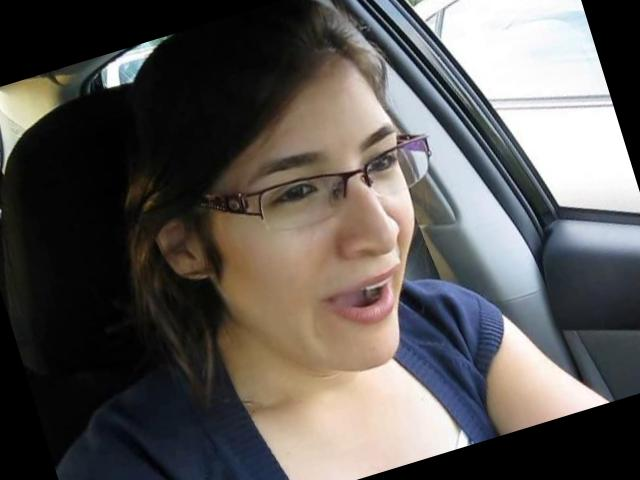eye_open: (258, 170, 329, 222), (357, 144, 404, 184)
face: (186, 90, 466, 404)
mouth_open: (310, 257, 420, 338)
